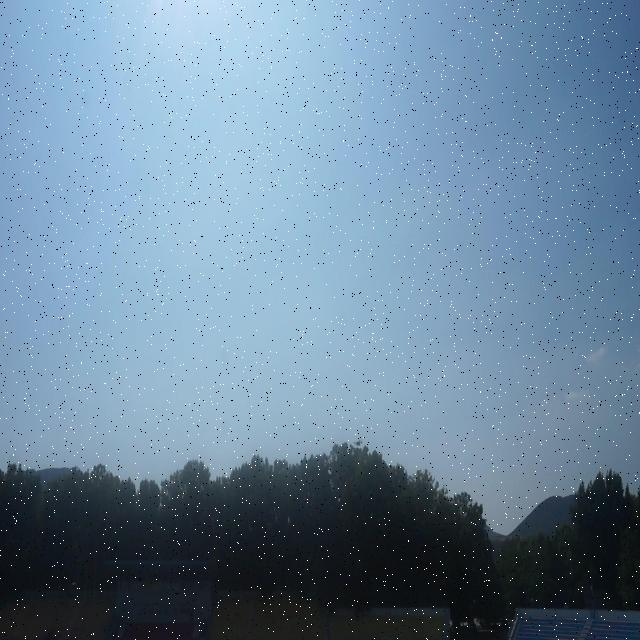UAV: (353, 439, 362, 446)
